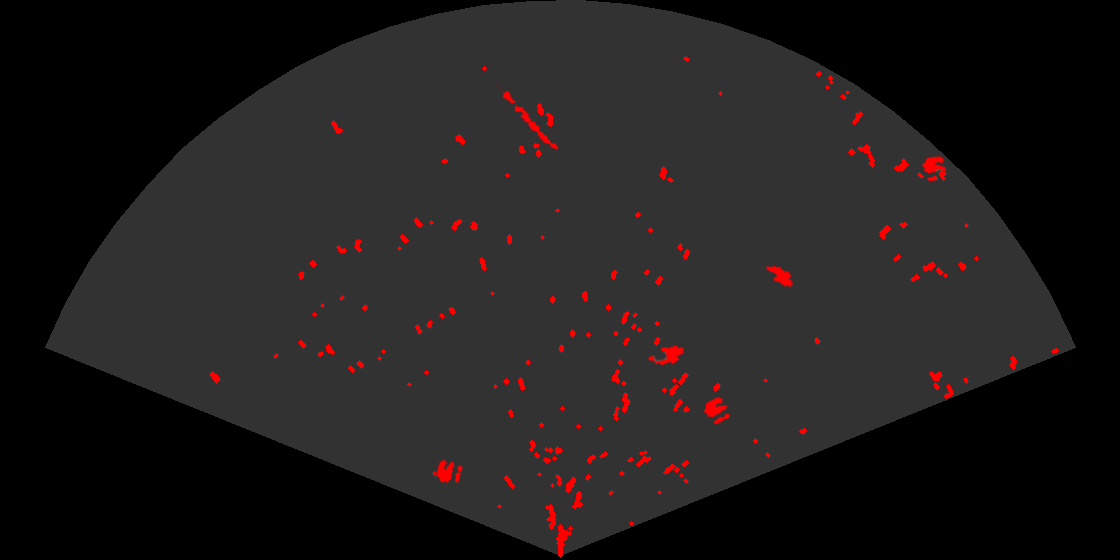AUV: (646, 344, 686, 367), (764, 264, 795, 289)
ball: (702, 395, 732, 426), (434, 458, 464, 485), (921, 155, 948, 183)
chain: (494, 84, 560, 151)
